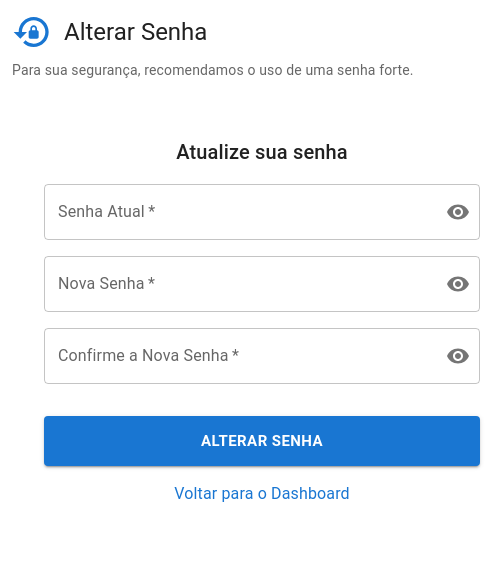
ChangePasswordPage › deve mostrar mensagem de sucesso ao submeter o formulário corretamente
The image size is (498, 583).
Type "senhaAntiga123" into the password field labelled "Senha Atual *". click: (237,212)
box: [44,184,430,240]
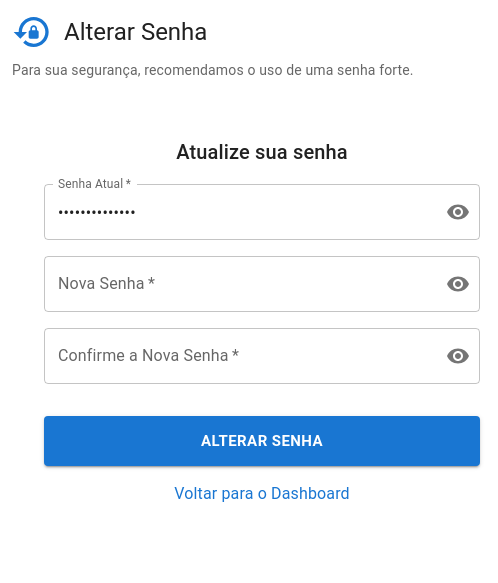
Type "novaSenha123" into the password field labelled "Nova Senha *". click: (237,284)
box: [44,256,430,312]
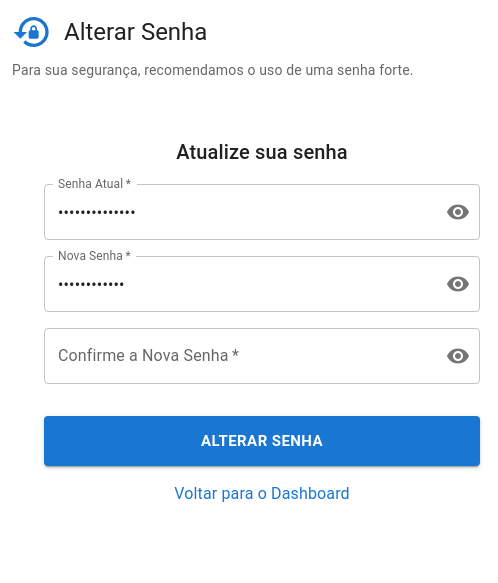
Type "novaSenha123" into the password field labelled "Confirme a Nova Senha *". click: (237,356)
box: [44,328,430,384]
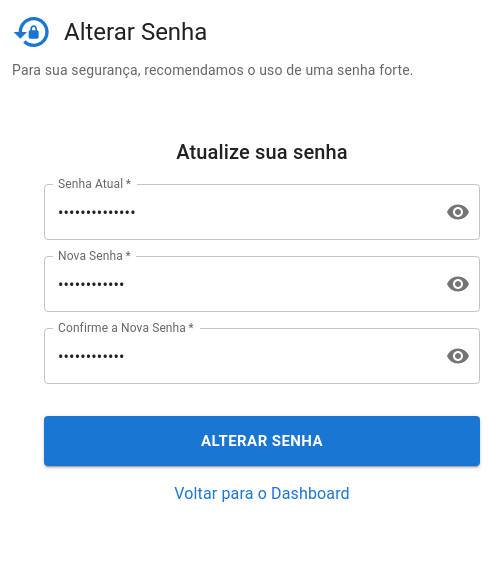
Click the button "Alterar Senha". click: (262,441)
box: [44,416,480,466]
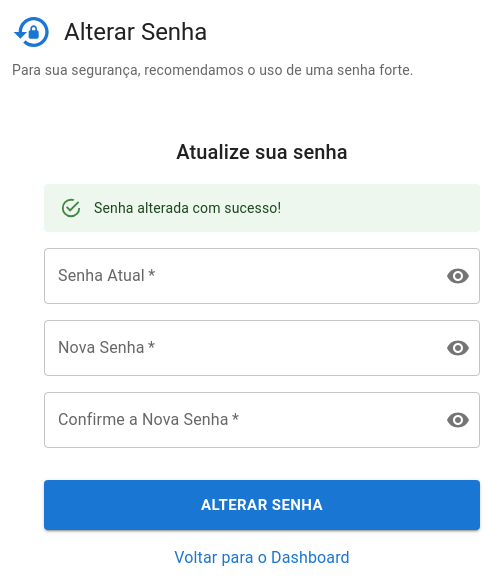
Expected: the text "Senha alterada com sucesso!" is shown, [94,200,281,216]
